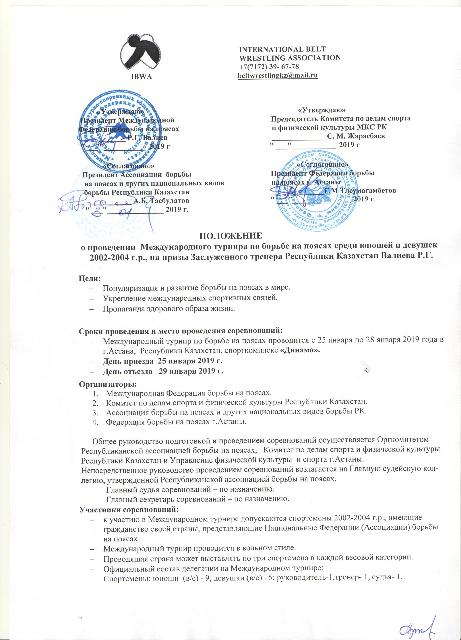stamp: (77, 88, 162, 172), (276, 151, 358, 229)
